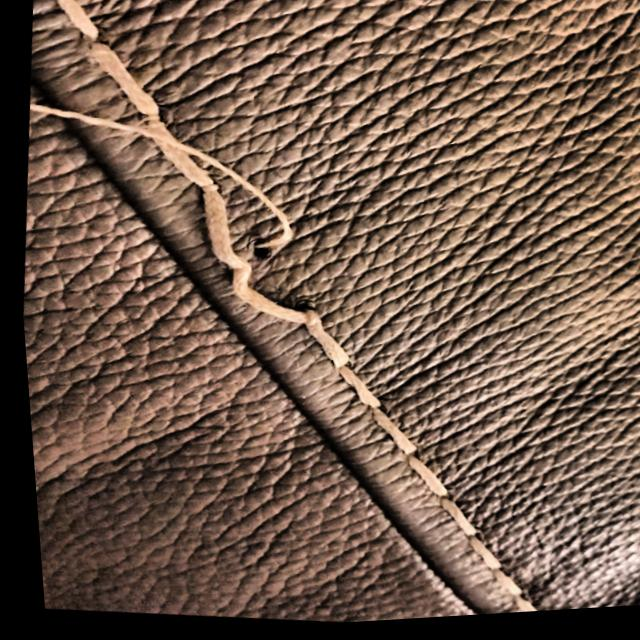Stitch: (73, 126, 400, 398)
